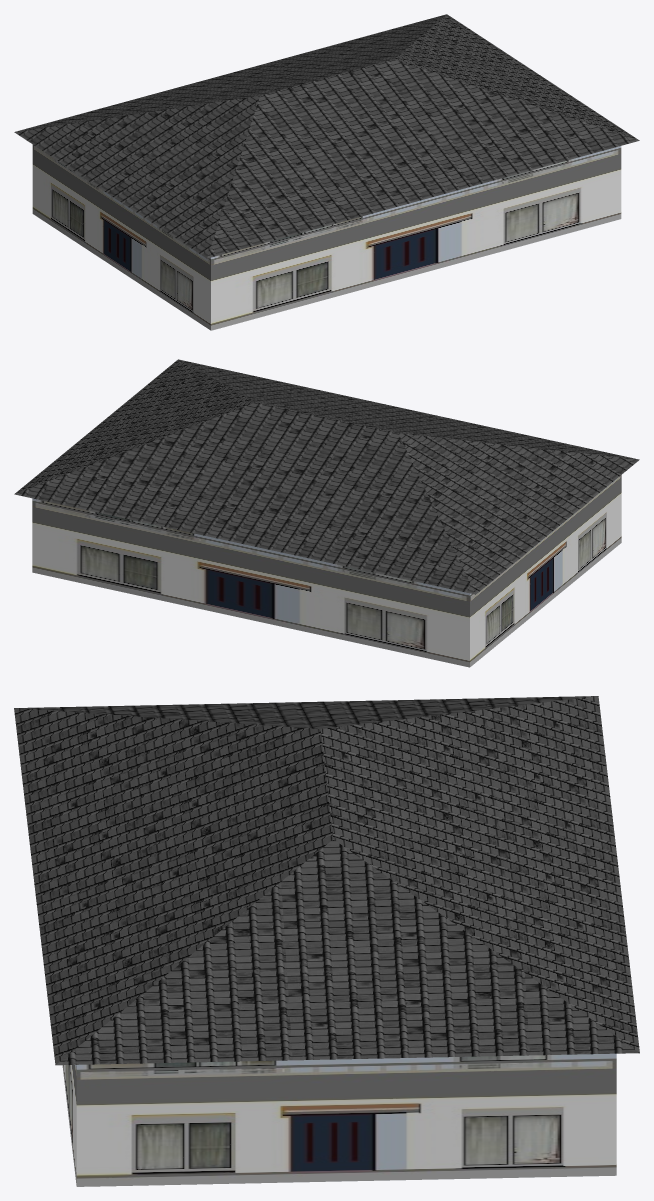
The picture shows the model from 3 angles, top to bottom: view 1: azimuth 30°, elevation 25°; view 2: azimuth 150°, elevation 25°; view 3: azimuth 270°, elevation 25°; orthographic projection. The views are drawn at different scales.
Visible parts, largest first — view 1: CityEngineMaterial_8_m, CityEngineMaterial_7_m; view 2: CityEngineMaterial_8_m, CityEngineMaterial_7_m; view 3: CityEngineMaterial_8_m, CityEngineMaterial_7_m.
Part boxes in pixels (x1,y1,x2,y2): CityEngineMaterial_8_m: (14,14,639,258); CityEngineMaterial_7_m: (32,144,621,330); CityEngineMaterial_8_m: (14,359,639,594); CityEngineMaterial_7_m: (32,475,621,667); CityEngineMaterial_8_m: (14,696,639,1065); CityEngineMaterial_7_m: (62,1053,616,1186).
Bounding box in the file's own units: 36.77 × 10.59 × 26.34.
